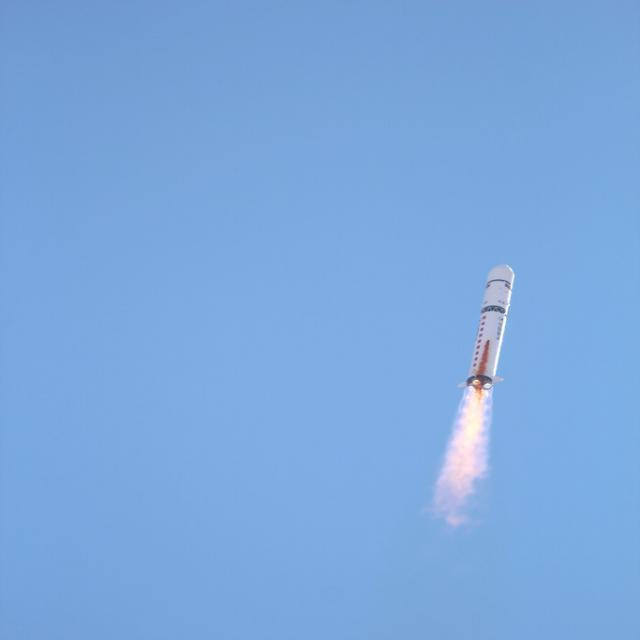Missile: (462, 260, 517, 392)
